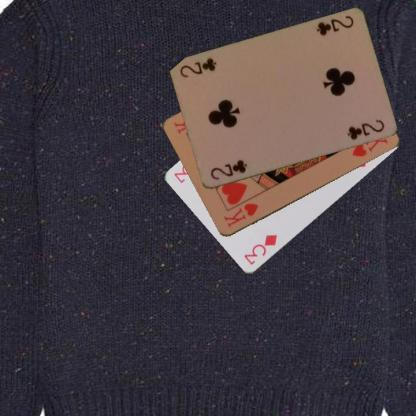2c: (313, 13, 355, 38), (208, 157, 249, 182)
3d: (241, 232, 278, 267)
Kh: (220, 201, 260, 230)
